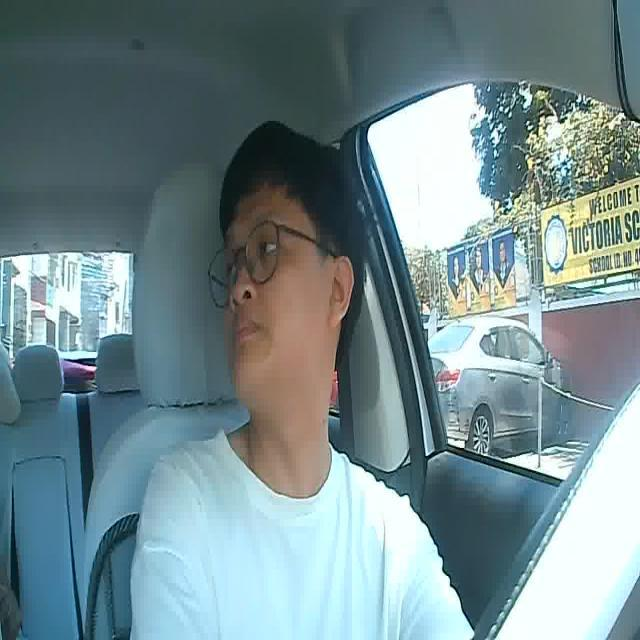Eye-Open: (254, 234, 282, 261), (226, 258, 237, 282)
Inattentive: (218, 119, 371, 403)
Normal: (229, 308, 259, 348)
